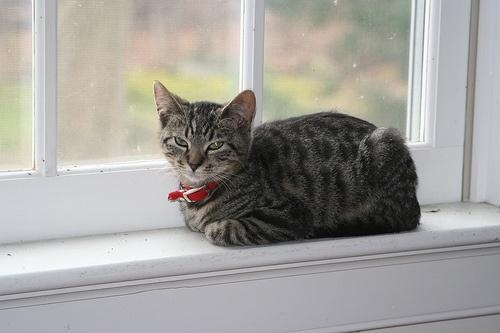cat: (153, 81, 422, 248)
